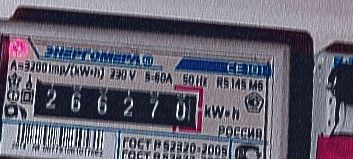0: (171, 98, 186, 119)
2: (40, 86, 57, 108), (118, 94, 134, 115)
6: (66, 89, 81, 111), (93, 92, 108, 113)
7: (144, 96, 158, 116)
screen: (21, 67, 209, 137)
